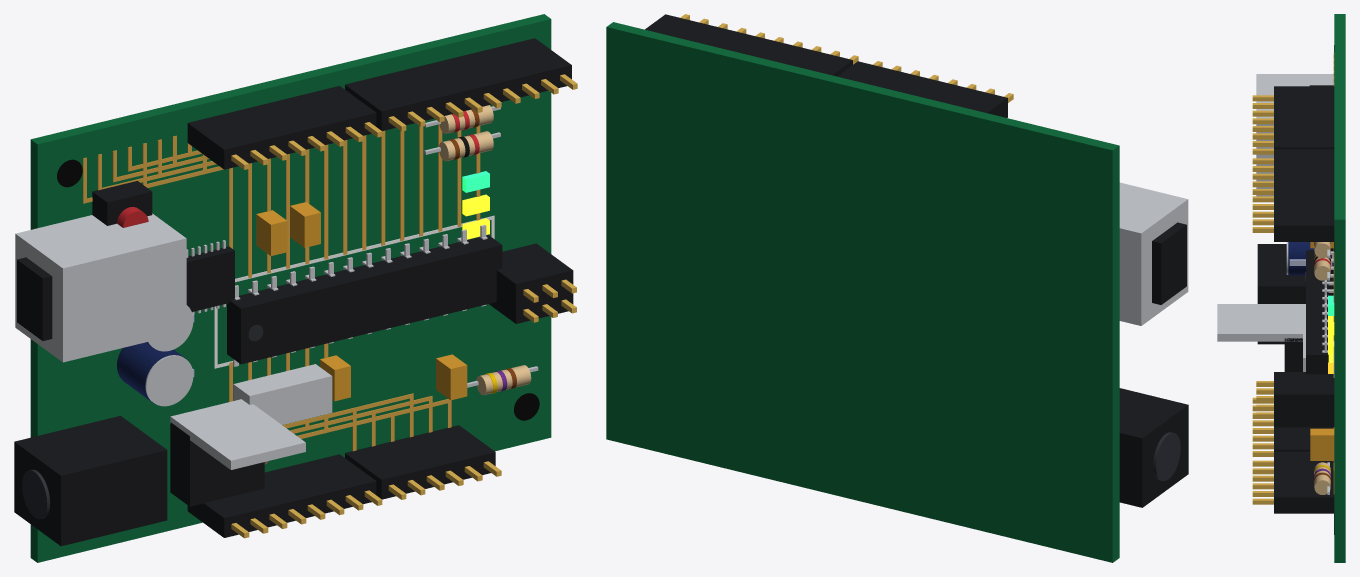
Rendered from ECE_Microcontroller_Board.glb.
3 renders of one model, left to right at view 1: azimuth 30°, elevation 25°; view 2: azimuth 150°, elevation 25°; view 3: azimuth 270°, elevation 25°, orthographic. The views are drawn at different scales.
Visible parts, largest first — view 1: PCB_Board, USB_Connector_shell, Microcontroller_IC_body, Power_Jack_body, Copper_Traces, Header_Digital_B_plastic, Header_Digital_A_plastic, Header_Power_plastic, Header_Analog_plastic, Voltage_Regulator_tab, Header_ICSP_plastic, Voltage_Regulator_body (+22 smaller); view 2: PCB_Board, USB_Connector_shell, Power_Jack_body, Header_Digital_B_plastic, Header_Digital_A_plastic, USB_Connector_port, Power_Jack_socket; view 3: PCB_Board, Header_Digital_B_plastic, Header_Digital_A_plastic, Header_ICSP_plastic, Voltage_Regulator_tab, Header_Analog_plastic, Power_Jack_body, Microcontroller_IC_body, USB_Connector_shell, Header_Digital_B_pins, Header_Digital_A_pins, Header_Power_plastic (+11 smaller).
Part boxes in pixels (x1,y1,x2,y2): PCB_Board: (30, 14, 551, 562); USB_Connector_shell: (15, 213, 186, 362); Microcontroller_IC_body: (227, 235, 502, 364); Power_Jack_body: (14, 416, 167, 546); Copper_Traces: (83, 124, 480, 451); Header_Digital_B_plastic: (345, 38, 571, 131); Header_Digital_A_plastic: (187, 86, 376, 169); Header_Power_plastic: (187, 454, 376, 537); Header_Analog_plastic: (345, 425, 495, 499); Voltage_Regulator_tab: (170, 399, 305, 469); Header_ICSP_plastic: (489, 243, 573, 323); Voltage_Regulator_body: (170, 422, 264, 506); PCB_Board: (606, 22, 1119, 562); USB_Connector_shell: (1119, 182, 1188, 325); Power_Jack_body: (1119, 388, 1188, 507); Header_Digital_B_plastic: (645, 14, 852, 76); Header_Digital_A_plastic: (837, 61, 1007, 117); USB_Connector_port: (1152, 222, 1186, 304); Power_Jack_socket: (1153, 432, 1180, 481); PCB_Board: (1334, 14, 1345, 562); Header_Digital_B_plastic: (1274, 149, 1334, 241); Header_Digital_A_plastic: (1274, 86, 1334, 149); Header_ICSP_plastic: (1274, 372, 1334, 427); Voltage_Regulator_tab: (1217, 304, 1305, 341); Header_Analog_plastic: (1274, 451, 1334, 513); Power_Jack_body: (1257, 244, 1333, 344); Microcontroller_IC_body: (1306, 250, 1328, 374); USB_Connector_shell: (1256, 74, 1333, 196); Header_Digital_B_pins: (1252, 158, 1273, 232); Header_Digital_A_pins: (1252, 95, 1273, 154); Header_Power_plastic: (1274, 427, 1333, 451).
Bounding box in the file's own units: 0.0728 × 0.0534 × 0.0181.
